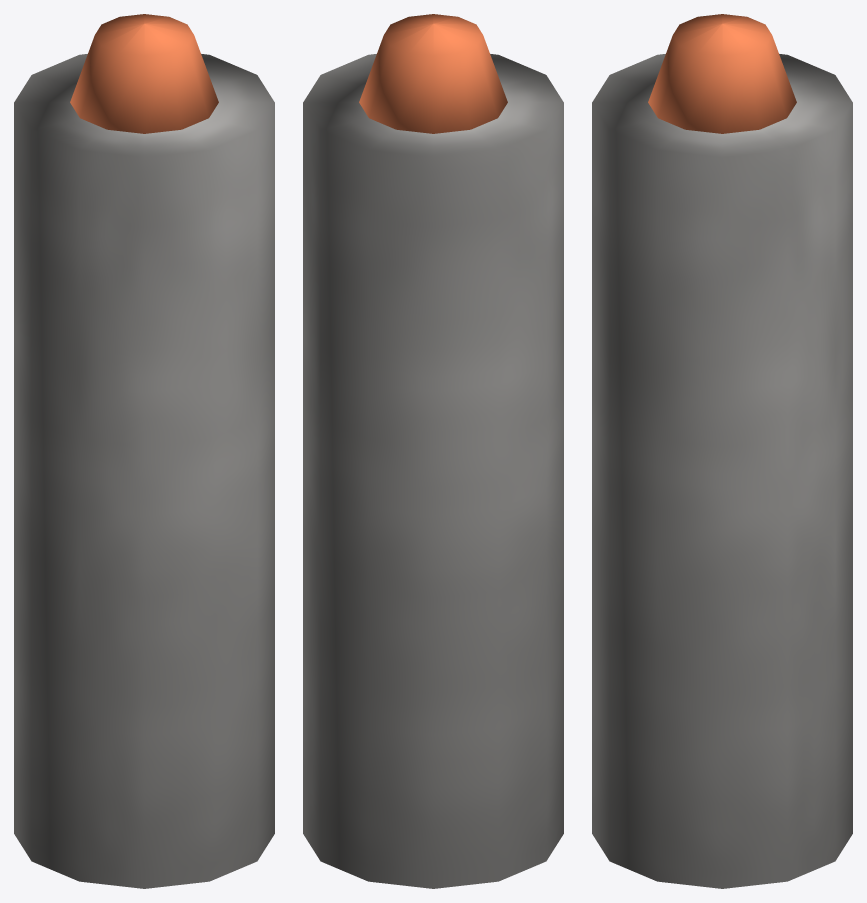
Rendered from lamp_cell_l0.gltf.
The picture shows the model from 3 angles, left to right: view 1: azimuth 30°, elevation 25°; view 2: azimuth 150°, elevation 25°; view 3: azimuth 270°, elevation 25°; orthographic projection.
Parts seen in each view (by area): view 1: lamp_cell_l0; view 2: lamp_cell_l0; view 3: lamp_cell_l0.
Boxes of the visible parts, box(x1,y1,x2,y2) form: lamp_cell_l0: box(14, 14, 274, 888); lamp_cell_l0: box(303, 14, 563, 888); lamp_cell_l0: box(592, 14, 852, 888).
Bounding box in the file's own units: 0.021 × 0.072 × 0.021.
Materials: 2 (2 with a texture image).
